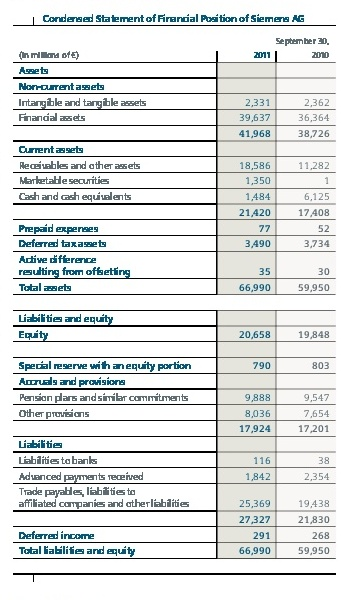table: (0, 0, 351, 600)
